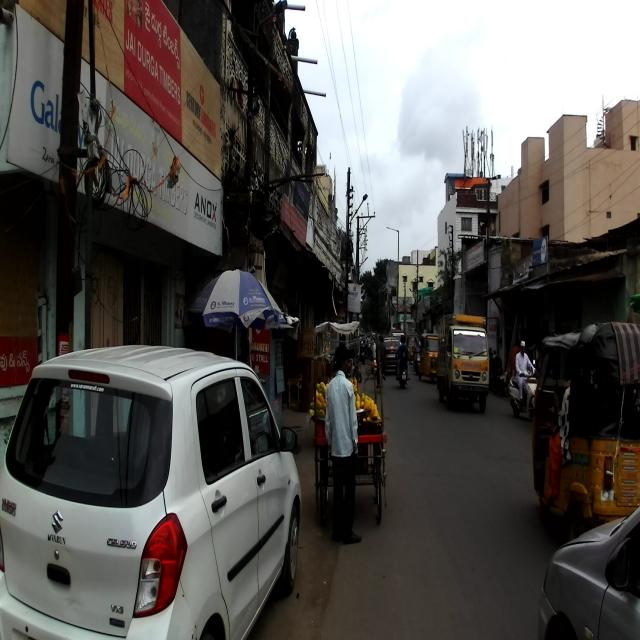autorickshaw: (528, 324, 640, 544)
car: (0, 345, 302, 639)
truck: (434, 310, 490, 412)
